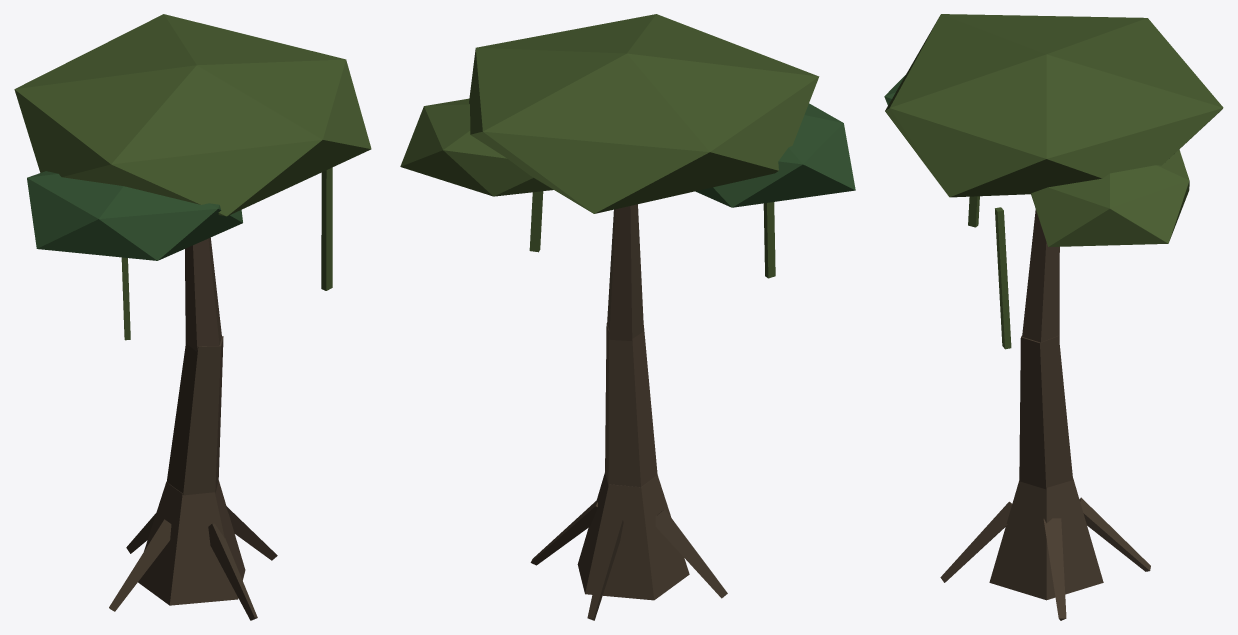
File: tree_swamp_lod1.glb
The picture shows the model from 3 angles, left to right: view 1: azimuth 30°, elevation 25°; view 2: azimuth 150°, elevation 25°; view 3: azimuth 270°, elevation 25°; orthographic projection.
Parts seen in each view (by area): view 1: tree_swamp_lod1; view 2: tree_swamp_lod1; view 3: tree_swamp_lod1.
Part boxes in pixels (bbox=[...]): tree_swamp_lod1: bbox=[14, 14, 371, 620]; tree_swamp_lod1: bbox=[400, 14, 855, 620]; tree_swamp_lod1: bbox=[884, 14, 1223, 620].
Size of what is drawn, in the model's own units: 6.33 by 8.69 by 5.08.
2 materials, 2 textured.
